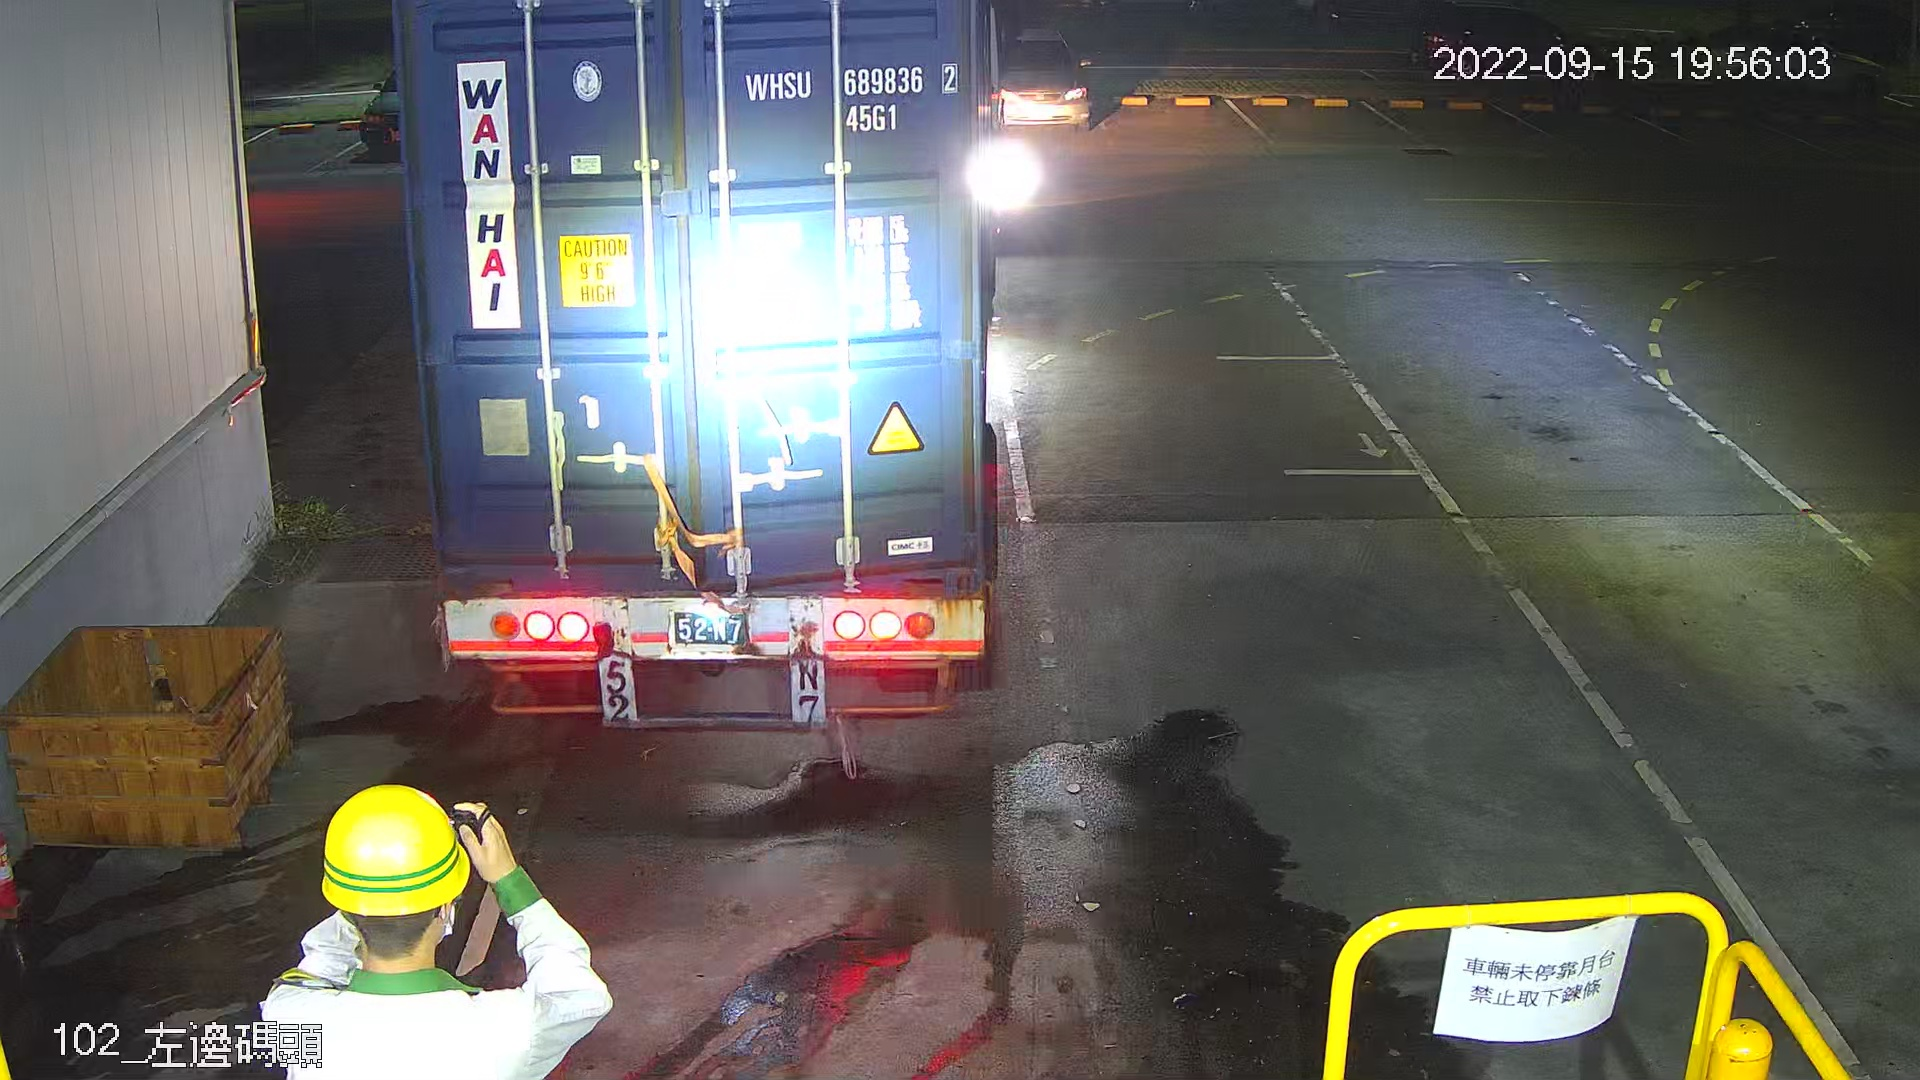container: (887, 36, 1089, 129)
